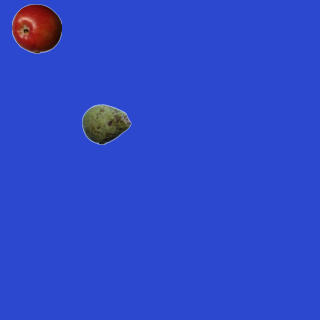Apple Braeburn: (11, 3, 61, 53)
Pear Stone: (81, 99, 131, 149)
